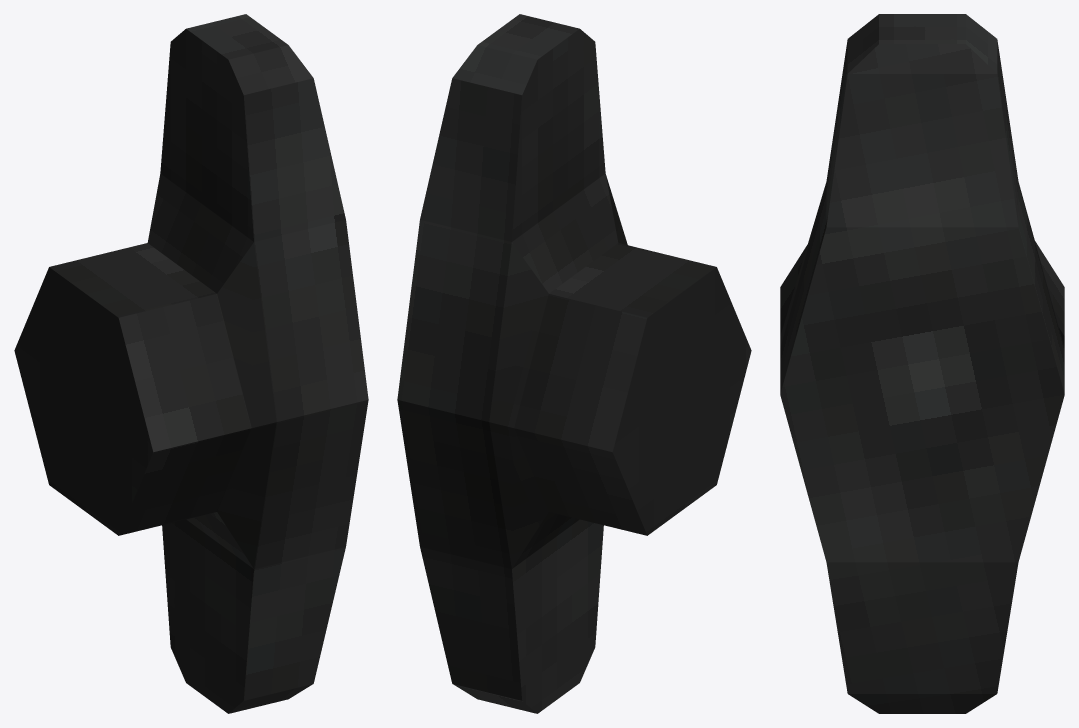
The model's file is SwitchHandle.glb.
The picture shows the model from 3 angles, left to right: view 1: azimuth 30°, elevation 25°; view 2: azimuth 150°, elevation 25°; view 3: azimuth 270°, elevation 25°; orthographic projection. The views are drawn at different scales.
Visible parts, largest first — view 1: Cylinder.010; view 2: Cylinder.010; view 3: Cylinder.010.
Boxes of the visible parts, x1,y1,x2,y2 form: Cylinder.010: (14, 14, 368, 713); Cylinder.010: (397, 14, 751, 713); Cylinder.010: (780, 14, 1064, 713).
Size of the model in its own units: 0.1879 by 0.5456 by 0.21.
1 material, 1 textured.
